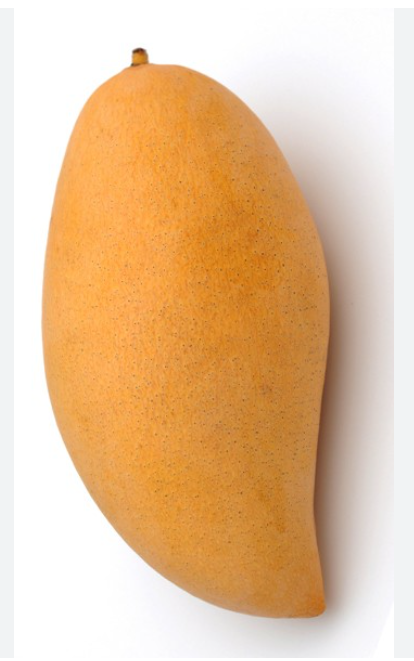mango: (43, 60, 335, 618)
